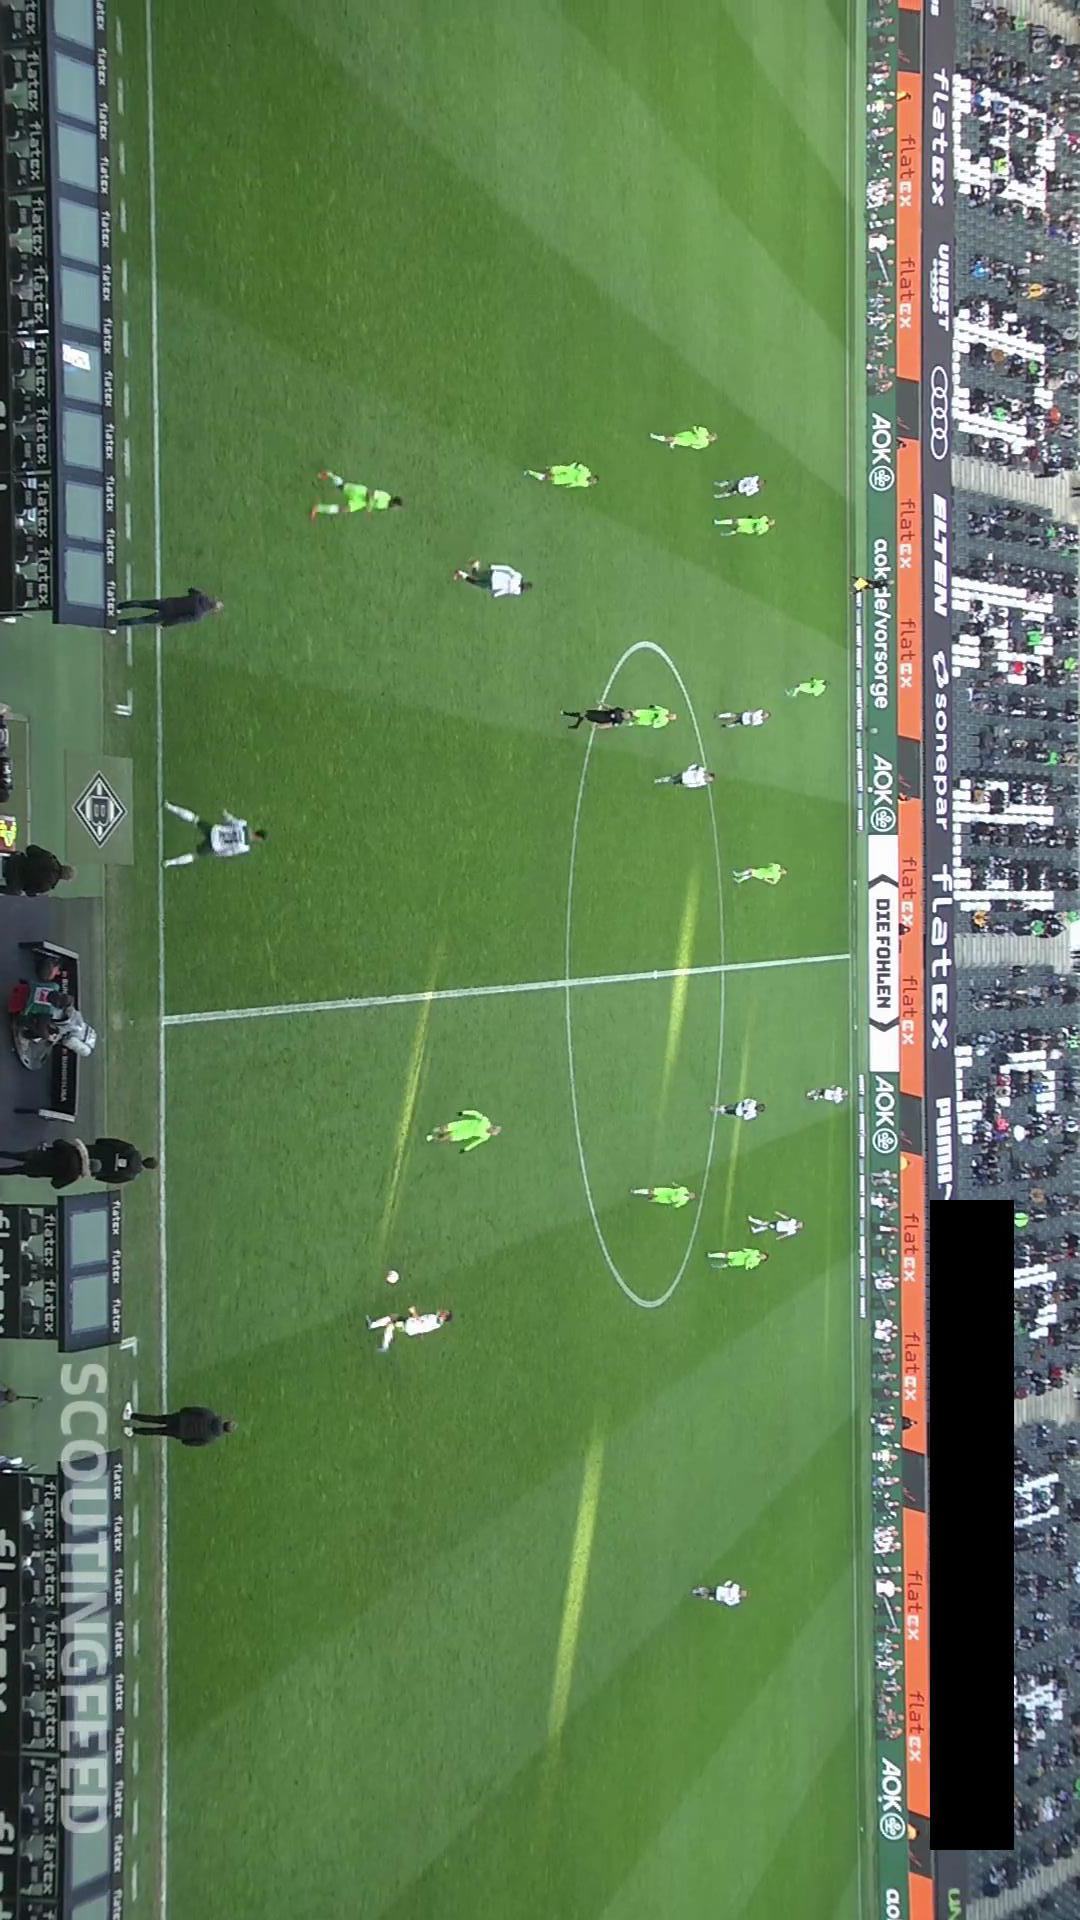ball: (385, 1270, 400, 1285)
player: (161, 800, 268, 870), (311, 469, 405, 520), (365, 1304, 454, 1349), (424, 1109, 502, 1154), (452, 563, 534, 599), (524, 462, 600, 489), (629, 1183, 700, 1208), (749, 1210, 805, 1241), (649, 425, 718, 450), (653, 763, 717, 789), (691, 1580, 751, 1607), (707, 1247, 770, 1271), (714, 515, 777, 538), (713, 475, 768, 500), (708, 1098, 767, 1121), (625, 704, 678, 729), (732, 862, 789, 885), (715, 708, 772, 728), (784, 677, 832, 698), (806, 1084, 851, 1104)
referee: (561, 703, 636, 730), (851, 575, 888, 595)
